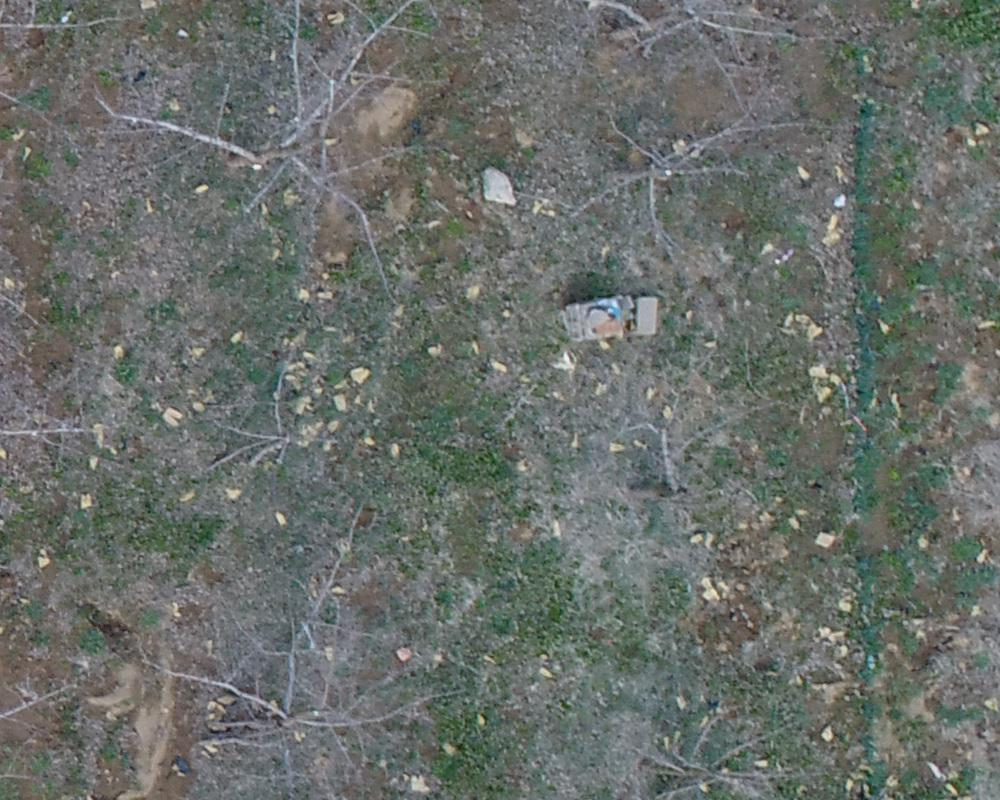apple: (102, 10, 442, 282), (124, 545, 466, 790), (582, 99, 810, 236), (620, 694, 819, 790), (201, 363, 340, 479), (615, 400, 742, 504)
